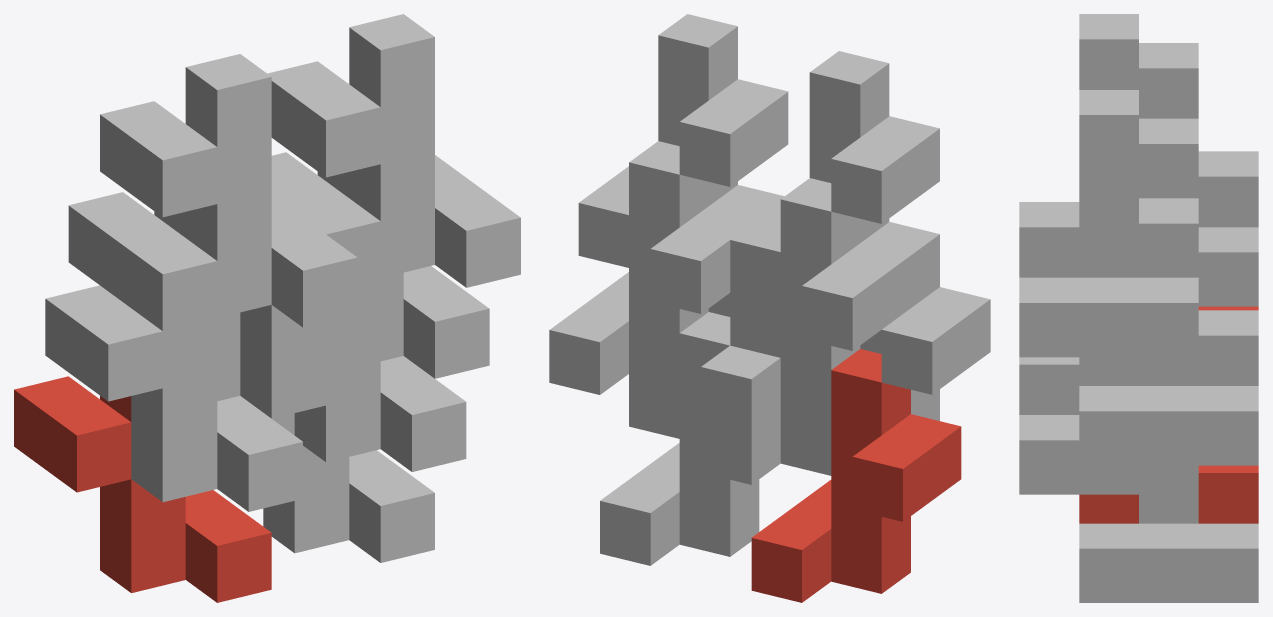
The model's file is tiling.obj.
The picture shows the model from 3 angles, left to right: view 1: azimuth 30°, elevation 25°; view 2: azimuth 150°, elevation 25°; view 3: azimuth 270°, elevation 25°; orthographic projection. The views are drawn at different scales.
Visible parts, largest first — view 1: copy_1_domain_2, copy_1_domain_4, copy_1_domain_8, copy_1_domain_1, copy_1_domain_6, copy_1_domain_3, copy_1_domain_5, copy_1_domain_7; view 2: copy_1_domain_1, copy_1_domain_3, copy_1_domain_7, copy_1_domain_5, copy_1_domain_4, copy_1_domain_8, copy_1_domain_2, copy_1_domain_6; view 3: copy_1_domain_8, copy_1_domain_7, copy_1_domain_5, copy_1_domain_4, copy_1_domain_6, copy_1_domain_3, copy_1_domain_1, copy_1_domain_2.
Part boxes in pixels (x1,y1,x2,y2): copy_1_domain_2: [45, 238, 302, 511]; copy_1_domain_4: [100, 54, 357, 327]; copy_1_domain_8: [267, 14, 520, 287]; copy_1_domain_1: [14, 376, 271, 602]; copy_1_domain_6: [240, 198, 466, 471]; copy_1_domain_3: [68, 192, 325, 418]; copy_1_domain_5: [263, 413, 434, 562]; copy_1_domain_7: [271, 152, 489, 378]; copy_1_domain_1: [751, 349, 961, 602]; copy_1_domain_3: [701, 178, 910, 431]; copy_1_domain_7: [549, 141, 758, 394]; copy_1_domain_5: [600, 312, 780, 565]; copy_1_domain_4: [730, 51, 939, 304]; copy_1_domain_8: [578, 14, 788, 267]; copy_1_domain_2: [780, 222, 990, 475]; copy_1_domain_6: [629, 185, 784, 438]; copy_1_domain_8: [1019, 90, 1198, 357]; copy_1_domain_7: [1079, 198, 1258, 465]; copy_1_domain_5: [1079, 494, 1258, 602]; copy_1_domain_4: [1019, 14, 1198, 277]; copy_1_domain_6: [1019, 357, 1198, 494]; copy_1_domain_3: [1198, 151, 1258, 385]; copy_1_domain_1: [1079, 306, 1258, 523]; copy_1_domain_2: [1019, 357, 1079, 414].
Bounding box in the file's own units: 7 × 9 × 4.
